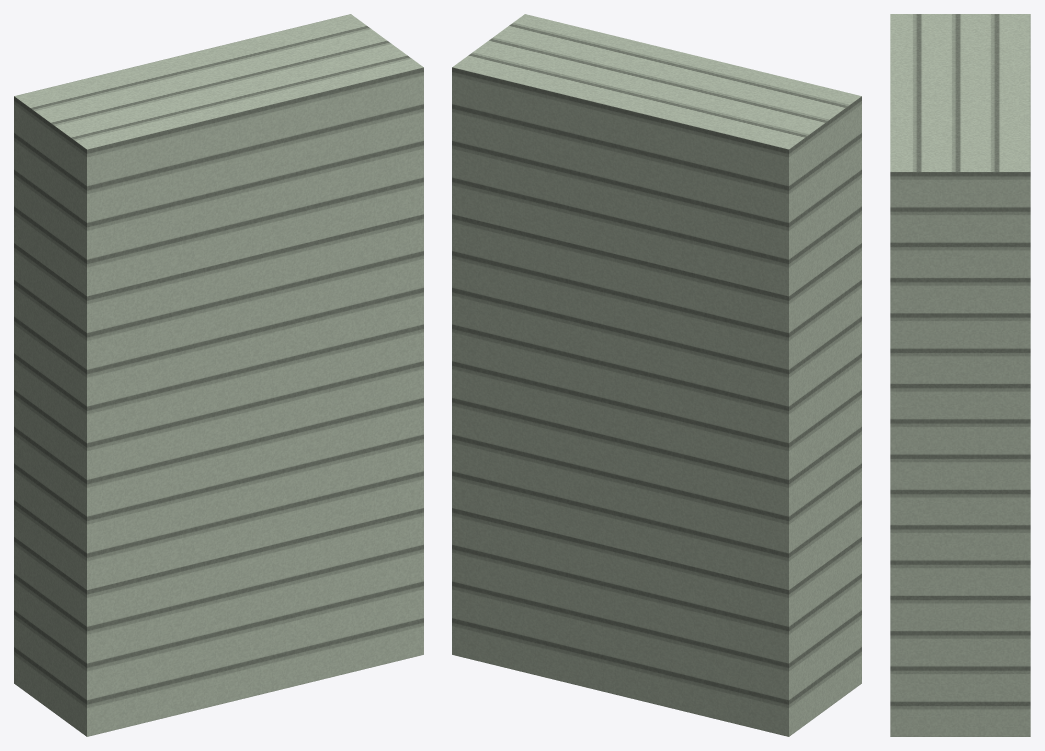
File: evidence_storage_shelving.glb
3 views of the same model, side by side, from view 1: azimuth 30°, elevation 25°; view 2: azimuth 150°, elevation 25°; view 3: azimuth 270°, elevation 25° (orthographic). The views are drawn at different scales.
Visible parts, largest first — view 1: evidence_storage_shelving-col; view 2: evidence_storage_shelving-col; view 3: evidence_storage_shelving-col.
Part boxes in pixels (bbox=[...]): evidence_storage_shelving-col: bbox=[14, 14, 423, 736]; evidence_storage_shelving-col: bbox=[452, 14, 861, 736]; evidence_storage_shelving-col: bbox=[890, 14, 1030, 736].
Size of the model in its own units: 1.2 by 2 by 0.45.
Materials: 1 (1 with a texture image).
